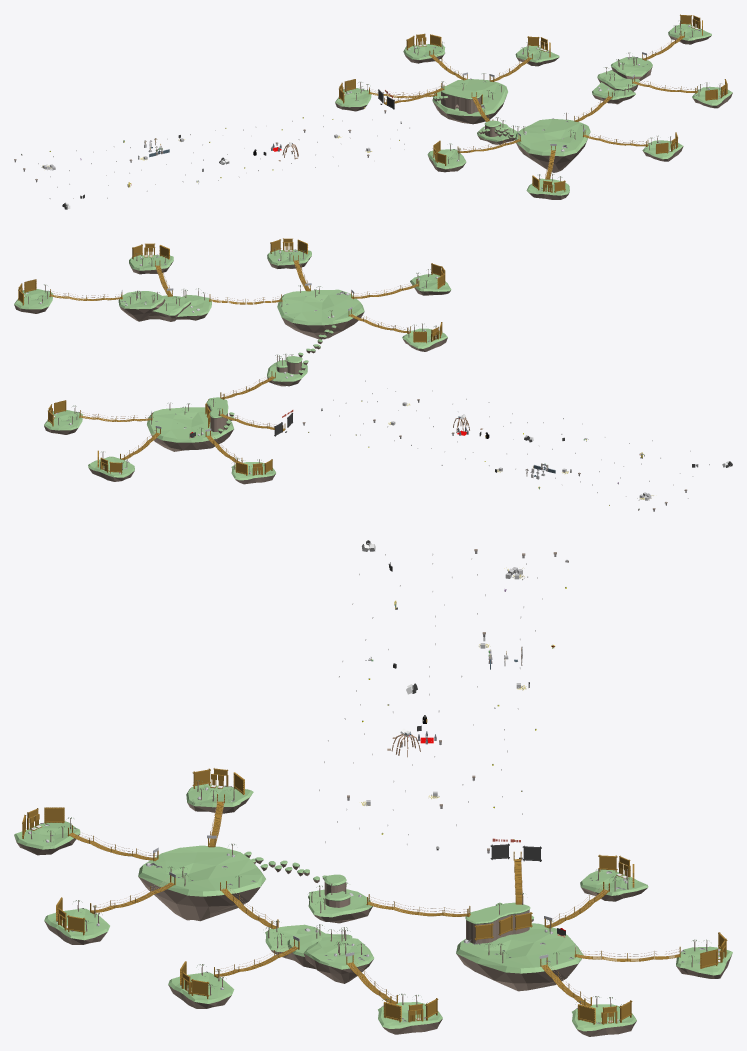
Rendered from maze_world_hub.glb.
3 renders of one model, top to bottom at view 1: azimuth 30°, elevation 25°; view 2: azimuth 150°, elevation 25°; view 3: azimuth 270°, elevation 25°, orthographic. The views are drawn at different scales.
Parts seen in each view (by area): view 1: Roblox reference geometry; view 2: Roblox reference geometry; view 3: Roblox reference geometry.
Boxes of the visible parts, x1,y1,x2,y2 form: Roblox reference geometry: (14,14,732,209); Roblox reference geometry: (14,238,732,511); Roblox reference geometry: (14,540,732,1036).
Bounding box in the file's own units: 815 × 96.05 × 498.
